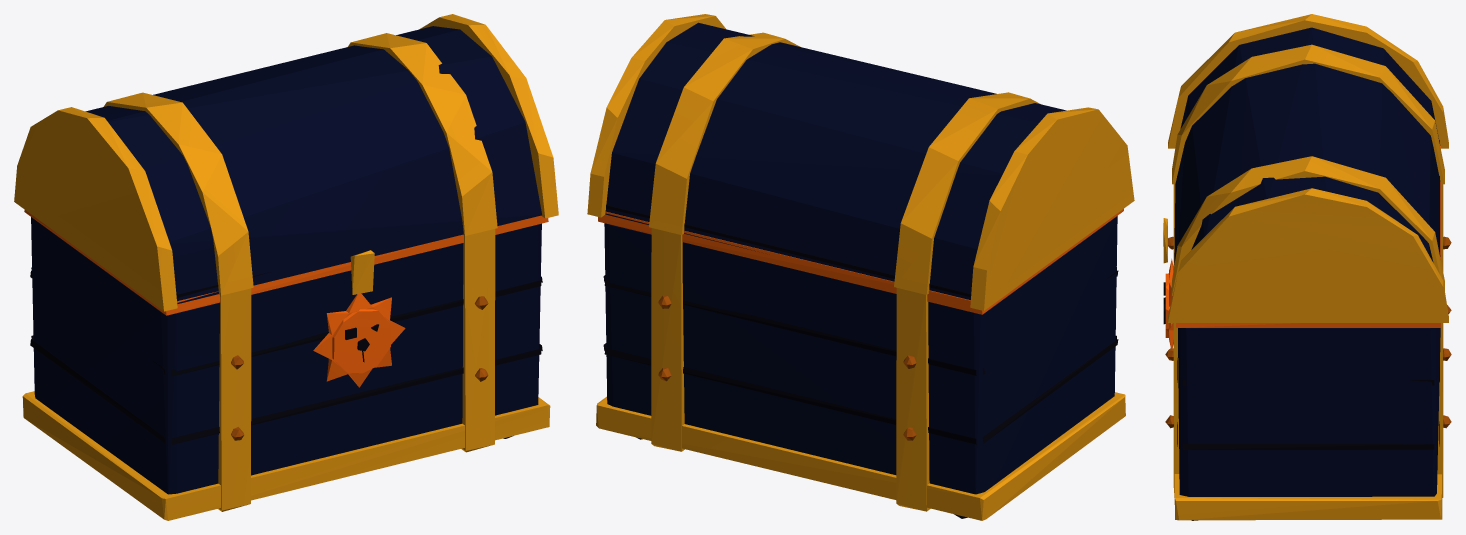
The model's file is tb_chest_grand.three-web-toon.lod50.glb.
3 renders of one model, left to right at view 1: azimuth 30°, elevation 25°; view 2: azimuth 150°, elevation 25°; view 3: azimuth 270°, elevation 25°, orthographic. The views are drawn at different scales.
Parts seen in each view (by area): view 1: chest_body_lod, chest_lid_lod; view 2: chest_body_lod, chest_lid_lod; view 3: chest_lid_lod, chest_body_lod.
Boxes of the visible parts, <box> form: chest_body_lod: <box>22,210,550,520</box>; chest_lid_lod: <box>14,14,558,311</box>; chest_body_lod: <box>596,209,1125,520</box>; chest_lid_lod: <box>587,14,1134,310</box>; chest_lid_lod: <box>1163,14,1448,322</box>; chest_body_lod: <box>1163,145,1451,520</box>.
Bounding box in the file's own units: 2.17 × 1.93 × 1.47.
